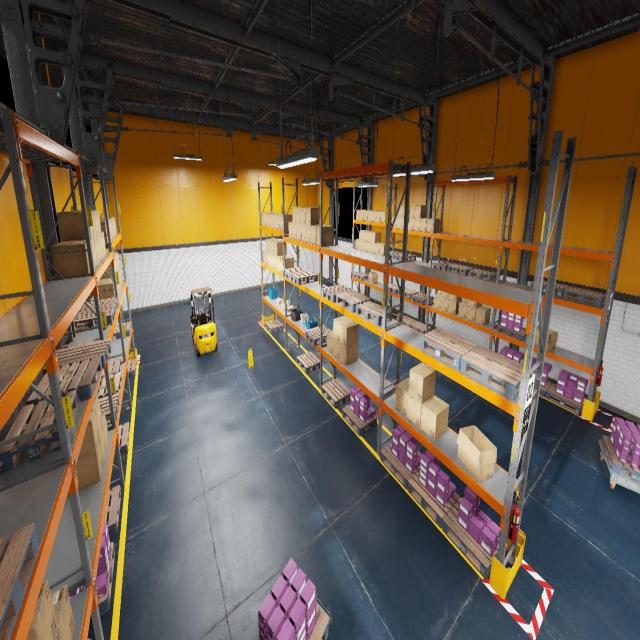box: (456, 425, 496, 482), (67, 437, 103, 496), (26, 580, 57, 640), (50, 242, 90, 278), (420, 395, 449, 441), (51, 585, 74, 639), (408, 362, 436, 404), (57, 212, 94, 241), (78, 407, 99, 458), (56, 239, 94, 267), (407, 394, 434, 428), (64, 211, 96, 238), (68, 210, 99, 236), (73, 210, 101, 234), (395, 377, 409, 417), (534, 327, 558, 350), (339, 319, 358, 347), (333, 316, 351, 342), (339, 342, 358, 366), (93, 280, 115, 300), (92, 395, 102, 436), (316, 226, 334, 246), (100, 257, 116, 279), (311, 225, 327, 244), (475, 306, 491, 325), (99, 424, 106, 463), (100, 218, 116, 235), (100, 217, 116, 234), (101, 411, 108, 449), (100, 218, 113, 238), (466, 305, 481, 322), (100, 218, 114, 236), (100, 219, 112, 239), (448, 299, 462, 315), (306, 208, 319, 225), (280, 256, 294, 271), (274, 240, 287, 256), (301, 207, 313, 224), (91, 238, 98, 266), (296, 207, 308, 223), (280, 214, 292, 230), (278, 255, 290, 271), (458, 300, 468, 319), (426, 218, 439, 232), (414, 205, 427, 218), (100, 221, 108, 242), (268, 239, 280, 253), (277, 214, 288, 229), (94, 236, 100, 262), (270, 213, 281, 227), (271, 240, 282, 254), (265, 213, 276, 226), (420, 218, 431, 231), (266, 238, 276, 252), (333, 337, 339, 360), (327, 331, 333, 354), (434, 292, 442, 309), (368, 271, 378, 284), (374, 242, 384, 255), (113, 252, 120, 270), (97, 235, 102, 260), (262, 212, 271, 225), (409, 205, 418, 218), (381, 211, 391, 222), (441, 297, 448, 312), (268, 213, 276, 226), (370, 232, 380, 242), (468, 300, 482, 307), (448, 294, 462, 301), (100, 234, 104, 257), (102, 232, 106, 255), (372, 210, 380, 221), (301, 224, 306, 241), (274, 214, 280, 228), (408, 217, 414, 230), (414, 218, 420, 231), (367, 231, 374, 242), (359, 230, 366, 241), (54, 627, 60, 639), (114, 254, 118, 272), (379, 243, 385, 255), (397, 205, 403, 217), (363, 231, 370, 241), (360, 210, 367, 220), (306, 225, 310, 242), (297, 223, 301, 240), (368, 210, 374, 221), (114, 255, 118, 271), (292, 207, 296, 223), (292, 223, 296, 239), (356, 210, 362, 220), (397, 217, 402, 229), (392, 216, 397, 228), (118, 270, 121, 289), (98, 278, 112, 282), (376, 211, 381, 222), (119, 268, 122, 286), (274, 255, 278, 268), (120, 266, 123, 283), (366, 242, 371, 252), (363, 210, 368, 220), (289, 222, 292, 238), (370, 242, 374, 253), (284, 299, 290, 306), (442, 292, 449, 298), (355, 239, 359, 249), (266, 251, 269, 264), (283, 304, 289, 310), (263, 250, 266, 262), (287, 306, 294, 311), (278, 299, 284, 304), (363, 241, 366, 251), (359, 240, 362, 250), (269, 252, 271, 266), (272, 254, 274, 267), (282, 300, 288, 304), (402, 217, 404, 229), (117, 284, 119, 294), (118, 284, 120, 292), (403, 205, 404, 217)
forklift: (190, 287, 217, 357)
pallets: (0, 390, 78, 473), (442, 497, 498, 579), (0, 523, 39, 639), (460, 346, 530, 400), (27, 357, 102, 405), (408, 471, 459, 528), (42, 338, 112, 378), (258, 604, 328, 639), (420, 327, 478, 369), (380, 441, 419, 489), (601, 435, 640, 483), (96, 542, 115, 616), (545, 383, 586, 415), (342, 404, 377, 436), (74, 305, 116, 330), (356, 301, 392, 326), (104, 485, 121, 537), (562, 286, 606, 306), (321, 379, 350, 408), (336, 290, 371, 312), (96, 372, 122, 398), (530, 280, 568, 297), (99, 392, 119, 424), (100, 357, 122, 385), (80, 298, 118, 314), (321, 284, 354, 302), (114, 422, 130, 459), (304, 325, 330, 346), (296, 352, 320, 374), (497, 324, 526, 341), (469, 268, 497, 282), (282, 266, 307, 280), (290, 271, 316, 284), (447, 264, 475, 276), (113, 321, 131, 339), (410, 321, 431, 334), (411, 292, 433, 304), (265, 319, 283, 333), (398, 287, 418, 299), (432, 261, 456, 271), (539, 380, 552, 397), (125, 358, 136, 378), (397, 315, 417, 326), (395, 254, 416, 261), (388, 283, 400, 294), (354, 272, 369, 280), (390, 252, 402, 258)
